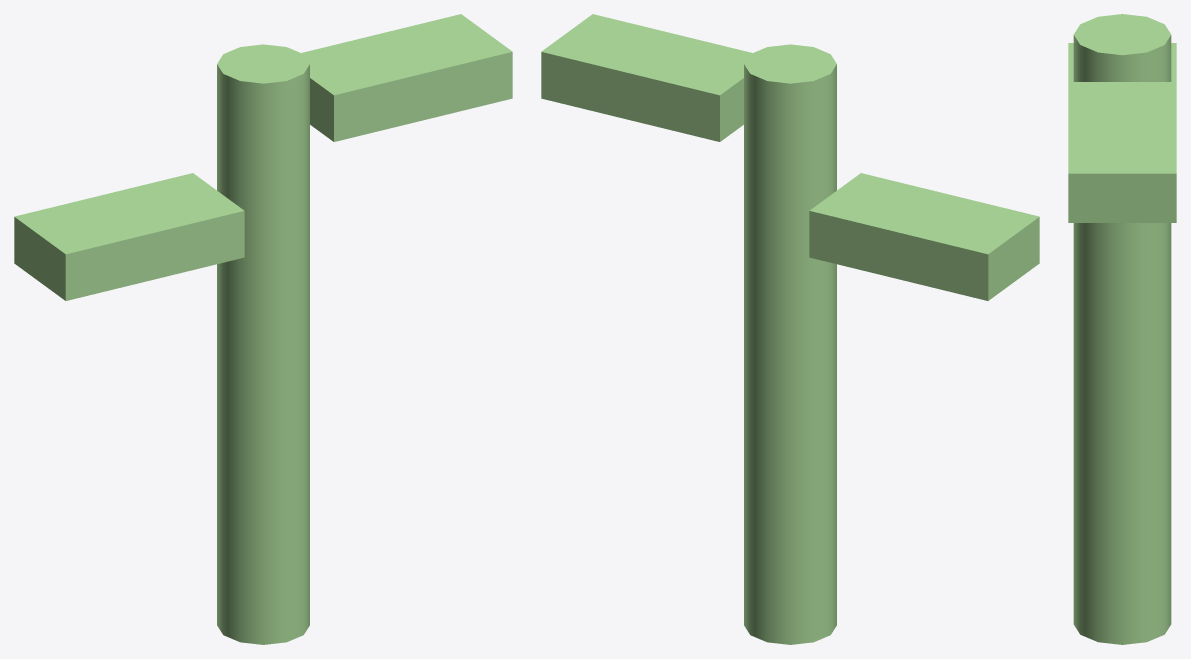
File: crop_tomato_sprout.glb
3 views of the same model, side by side, from view 1: azimuth 30°, elevation 25°; view 2: azimuth 150°, elevation 25°; view 3: azimuth 270°, elevation 25° (orthographic). The views are drawn at different scales.
Visible parts, largest first — view 1: Crop_Tomato_Sprout; view 2: Crop_Tomato_Sprout; view 3: Crop_Tomato_Sprout.
Boxes of the visible parts, box(x1,y1,x2,y2) form: Crop_Tomato_Sprout: box(14, 14, 512, 644); Crop_Tomato_Sprout: box(541, 14, 1039, 644); Crop_Tomato_Sprout: box(1068, 14, 1176, 644).
Bounding box in the file's own units: 0.1 × 0.12 × 0.02.
